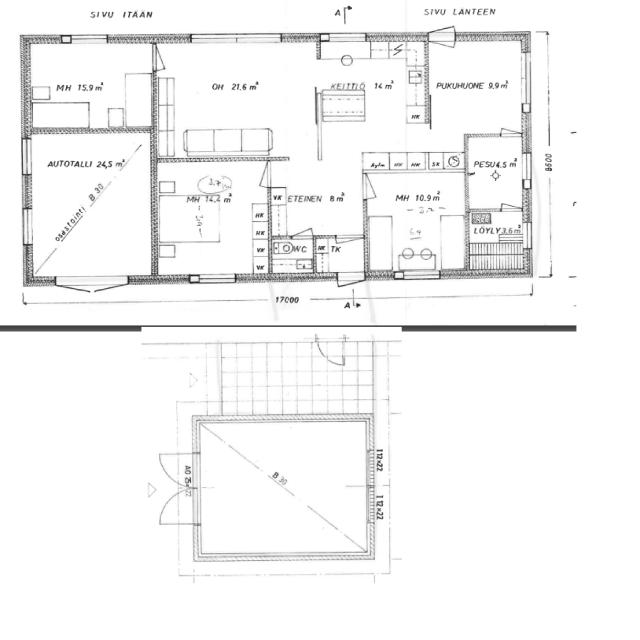door: (154, 488, 198, 527), (156, 450, 188, 488), (316, 336, 347, 370), (146, 43, 169, 76), (428, 24, 457, 49), (334, 271, 366, 290), (254, 161, 274, 190), (360, 170, 377, 202), (290, 226, 316, 242)
window: (188, 31, 282, 47), (53, 276, 131, 292), (516, 49, 532, 110), (18, 135, 35, 179), (19, 205, 36, 248), (64, 32, 110, 47), (322, 31, 370, 44), (519, 150, 534, 188), (398, 269, 441, 282), (194, 273, 237, 285), (524, 221, 536, 251)
zone: (195, 420, 366, 560), (153, 41, 313, 147), (153, 161, 270, 278), (318, 40, 425, 155), (25, 40, 154, 130), (363, 170, 466, 276), (424, 40, 527, 134), (269, 158, 367, 238), (465, 136, 528, 211), (467, 210, 527, 255), (466, 232, 528, 275), (314, 237, 368, 276), (269, 238, 315, 276)
